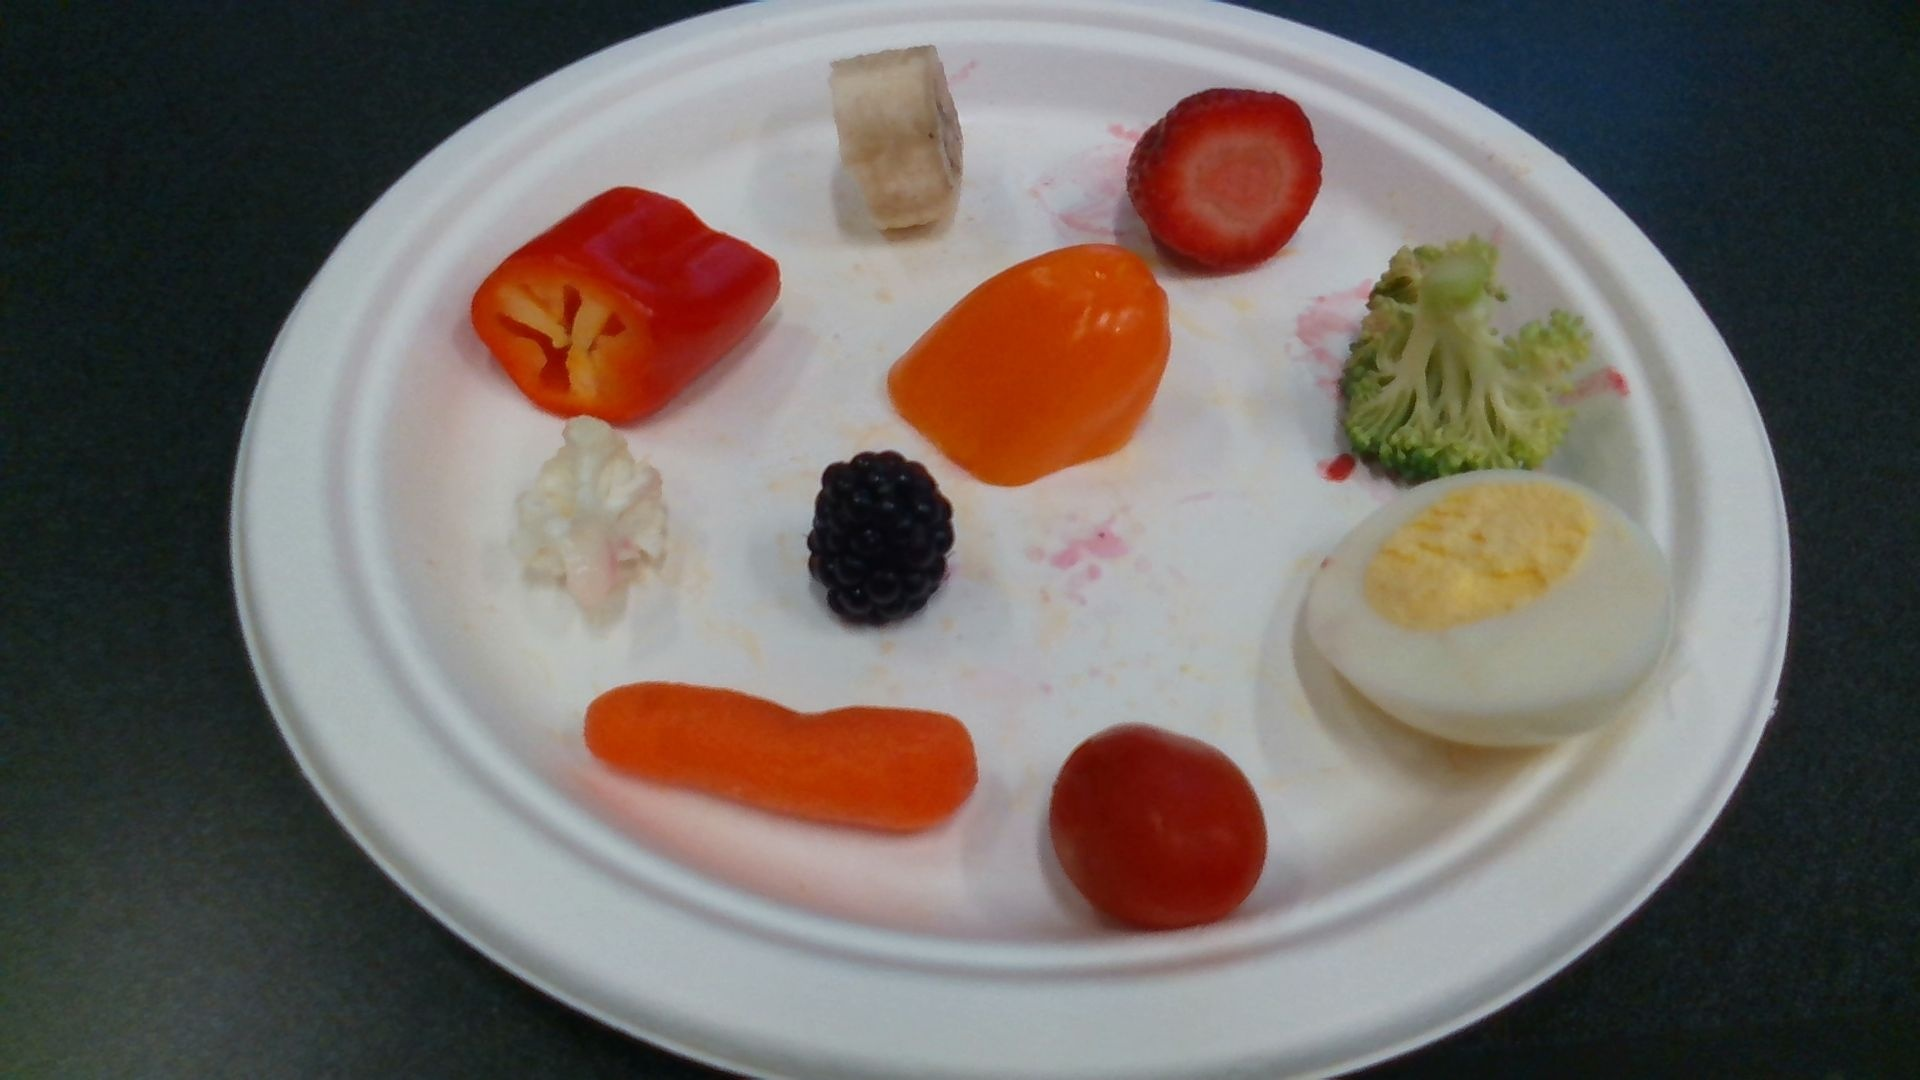banana: (829, 46, 963, 229)
bell_pepper: (473, 189, 782, 419), (885, 245, 1168, 483)
blackberry: (807, 454, 953, 625)
broccoli: (1338, 243, 1596, 480)
carrot: (584, 683, 975, 833)
cauliflower: (517, 418, 670, 607)
cherry_tomato: (1052, 728, 1267, 928)
egg: (1307, 471, 1673, 745)
strawberry: (1129, 94, 1323, 266)
